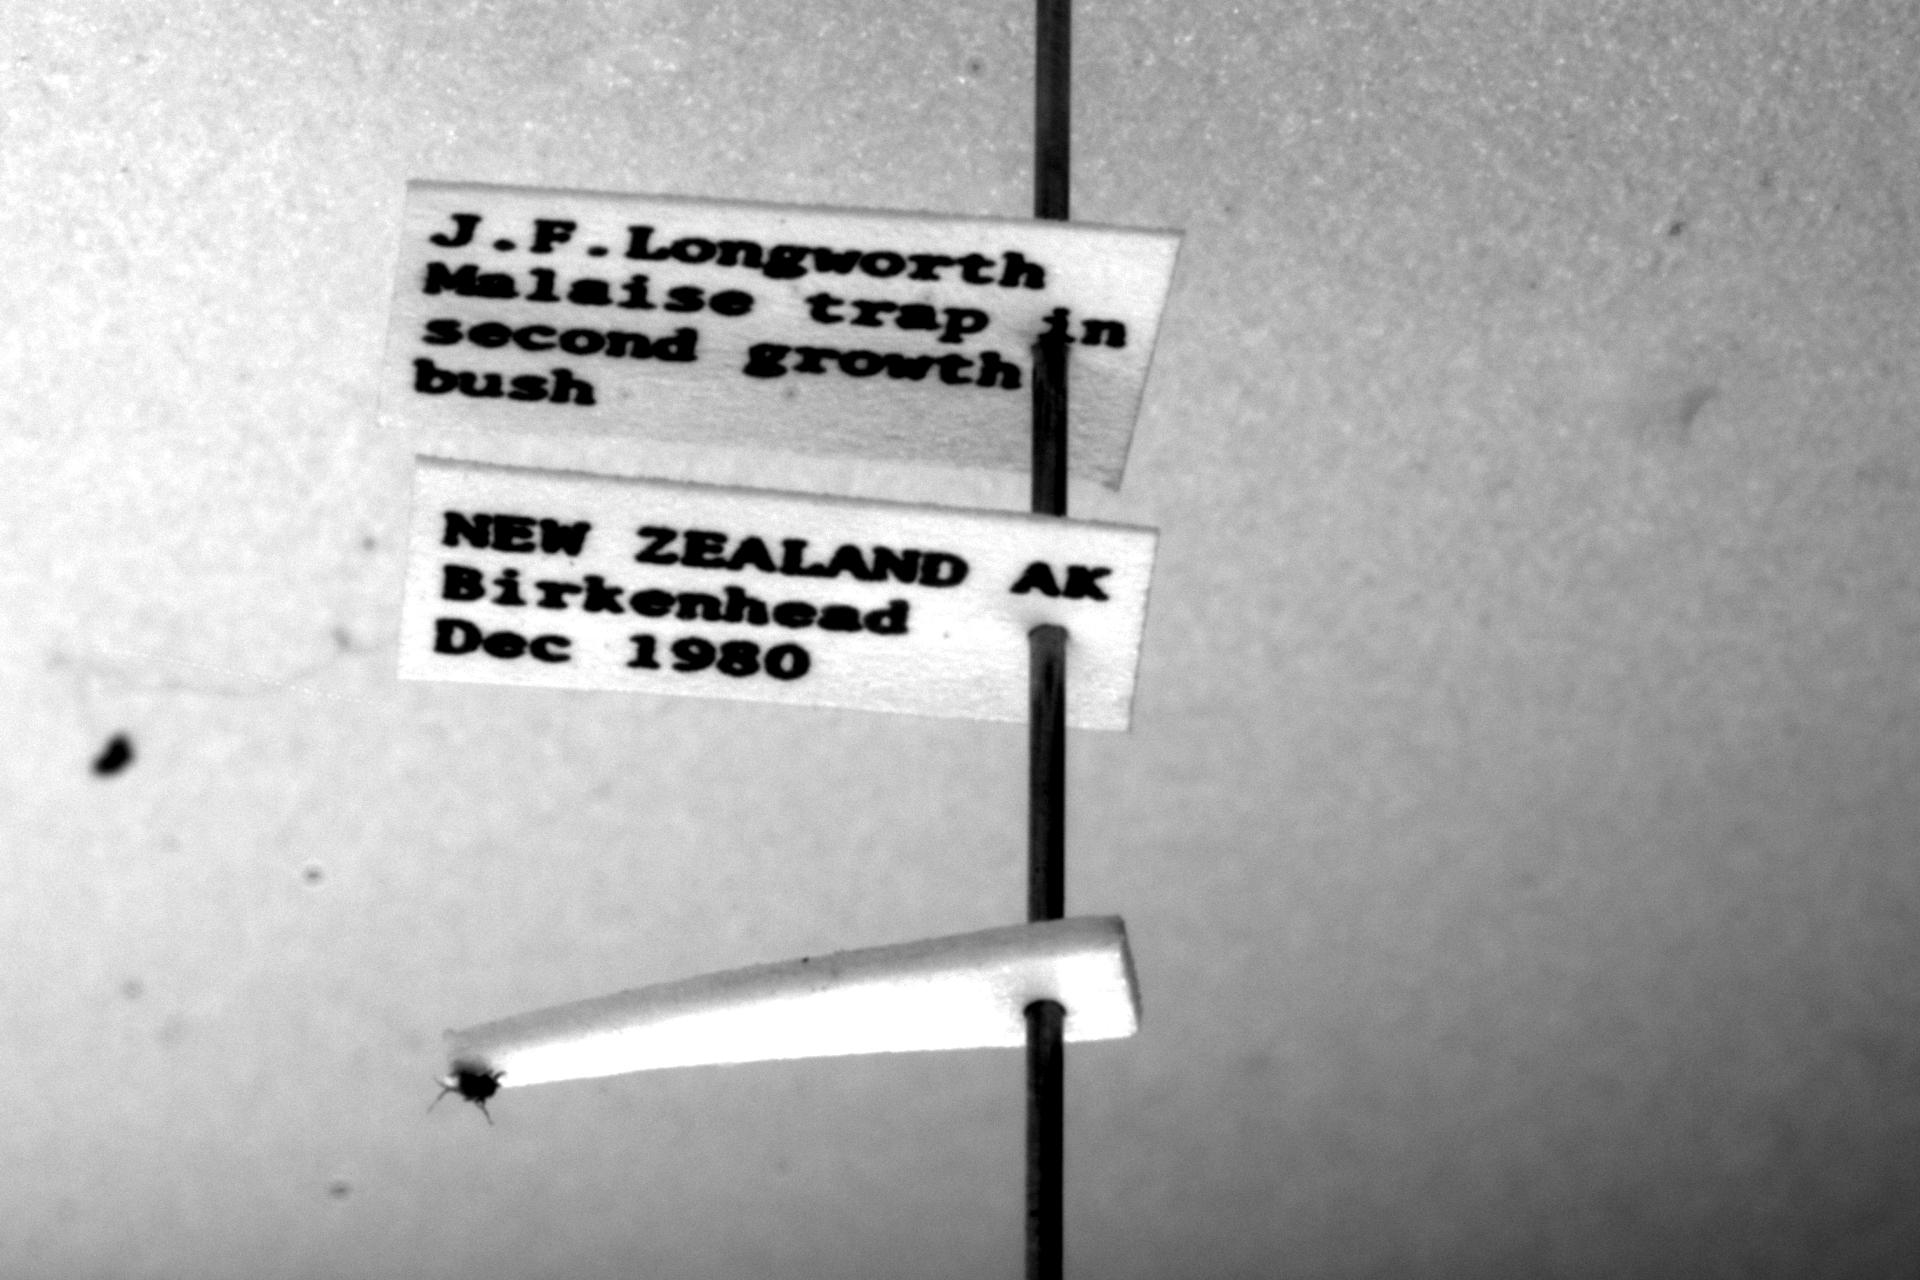typed_label: (379, 180, 1181, 488), (398, 458, 1155, 731)
